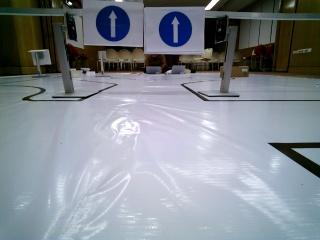straight: (82, 0, 144, 47), (144, 8, 204, 53)
